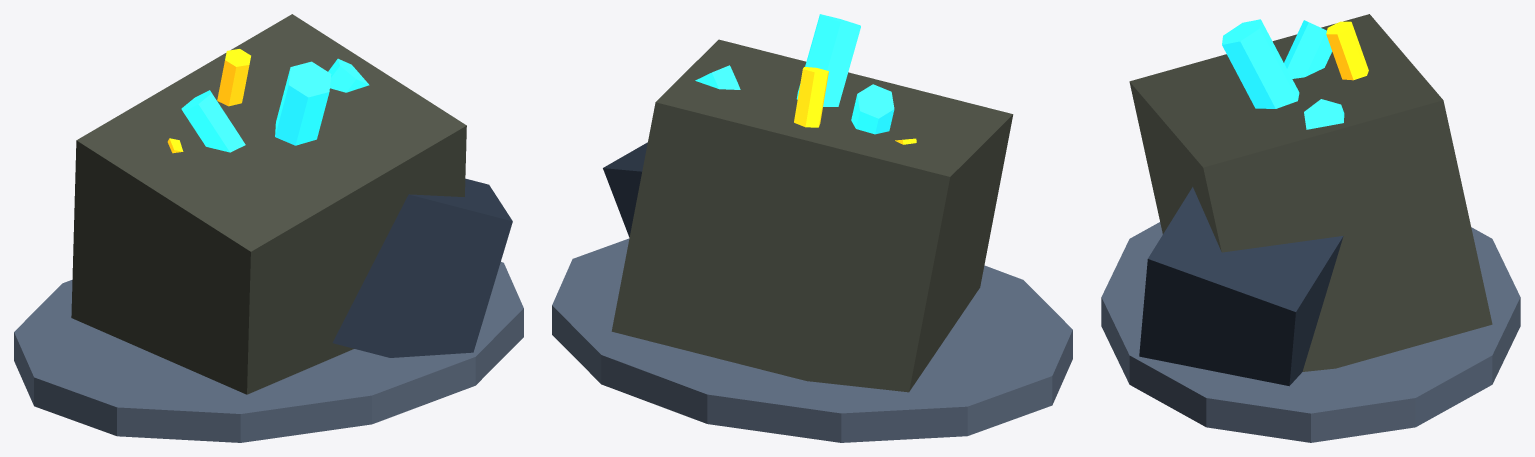
Rendered from roca_mineral.glb.
3 renders of one model, left to right at view 1: azimuth 30°, elevation 25°; view 2: azimuth 150°, elevation 25°; view 3: azimuth 270°, elevation 25°, orthographic. The views are drawn at different scales.
Parts seen in each view (by area): view 1: Cube, Cylinder, Cube.001, Cylinder.001, Cylinder.002, Cylinder.004, Cylinder.003; view 2: Cube, Cylinder, Cylinder.001, Cube.001, Cylinder.002, Cylinder.004, Cylinder.003; view 3: Cube, Cylinder, Cube.001, Cylinder.001, Cylinder.002, Cylinder.004, Cylinder.003.
Part boxes in pixels (x1,y1,x2,y2): Cube: (71, 14, 466, 394); Cylinder: (14, 262, 523, 442); Cube.001: (332, 178, 512, 357); Cylinder.001: (275, 61, 331, 145); Cylinder.002: (181, 90, 245, 152); Cylinder.004: (217, 49, 250, 106); Cylinder.003: (328, 58, 369, 92); Cube: (611, 39, 1013, 392); Cylinder: (552, 238, 1072, 442); Cylinder.001: (796, 14, 860, 106); Cube.001: (603, 142, 647, 237); Cylinder.002: (851, 84, 894, 134); Cylinder.004: (794, 67, 828, 127); Cylinder.003: (695, 65, 740, 89); Cube: (1129, 14, 1492, 371); Cylinder: (1101, 222, 1520, 442); Cube.001: (1139, 187, 1343, 386); Cylinder.001: (1222, 19, 1299, 108); Cylinder.002: (1284, 20, 1332, 78); Cylinder.004: (1326, 21, 1368, 80); Cylinder.003: (1304, 99, 1344, 129).
Size of the model in its own units: 1.7 by 1.12 by 1.29.
